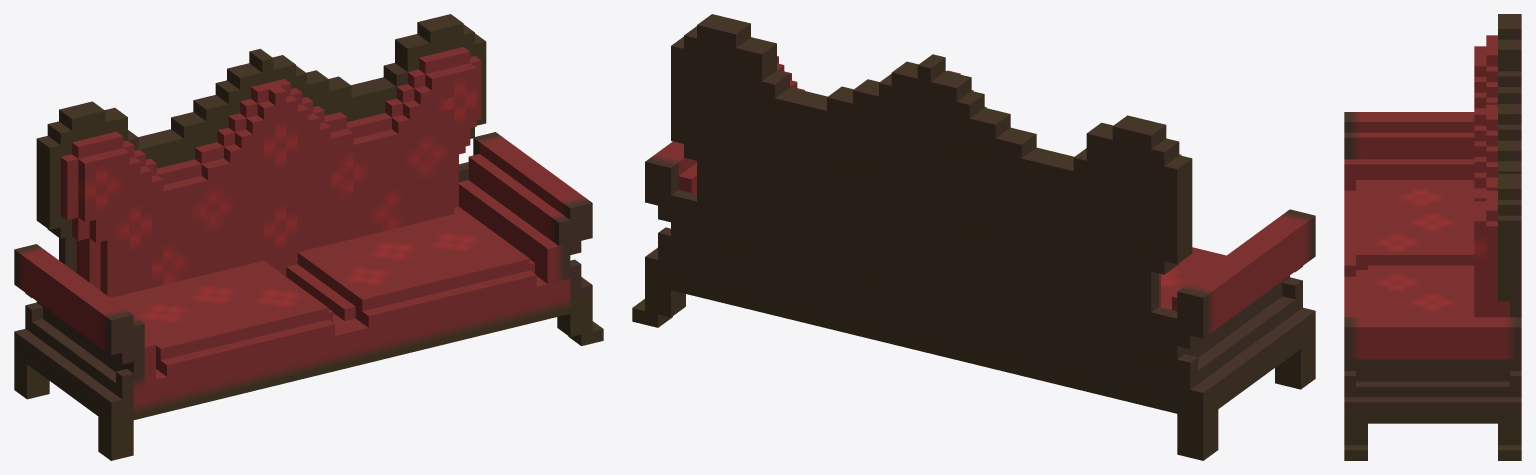
File: Captain_Sofa_00.fbx
3 views of the same model, side by side, from view 1: azimuth 30°, elevation 25°; view 2: azimuth 150°, elevation 25°; view 3: azimuth 270°, elevation 25° (orthographic). The views are drawn at different scales.
Visible parts, largest first — view 1: Captain_Sofa_00; view 2: Captain_Sofa_00; view 3: Captain_Sofa_00.
Boxes of the visible parts, left/top/right/bottom form: Captain_Sofa_00: left=14, top=14, right=603, bottom=460; Captain_Sofa_00: left=632, top=14, right=1315, bottom=460; Captain_Sofa_00: left=1344, top=14, right=1521, bottom=460.
Size of the model in its own units: 220 by 120 by 75.
